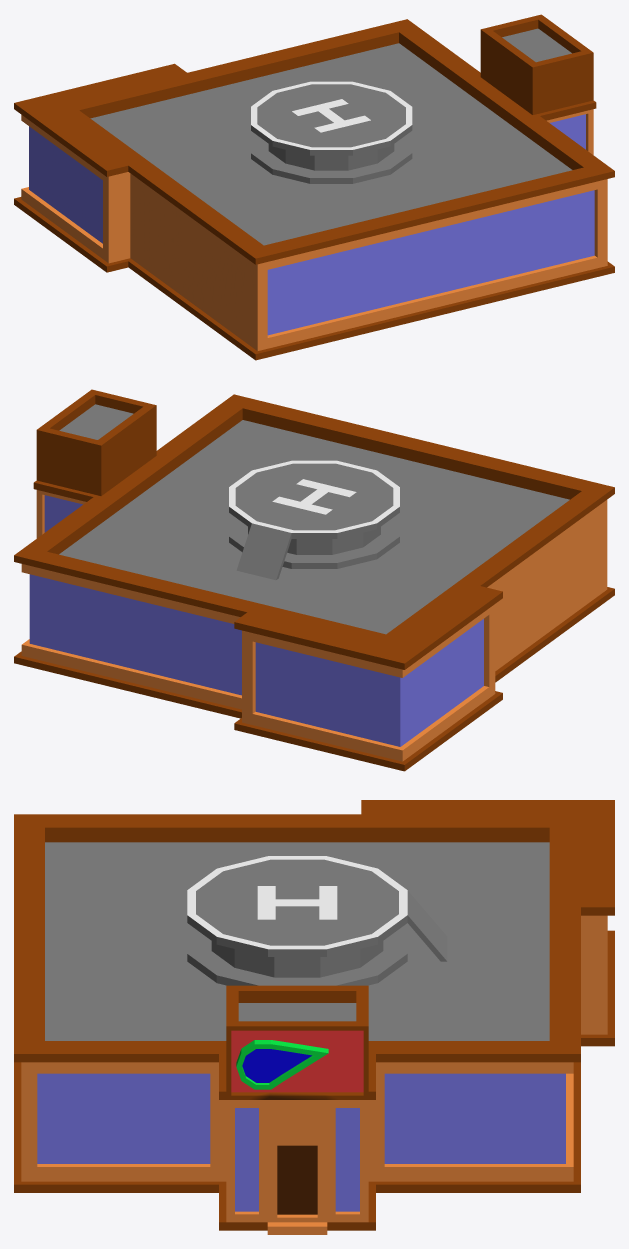
File: Wank.FBX
The picture shows the model from 3 angles, top to bottom: view 1: azimuth 30°, elevation 25°; view 2: azimuth 150°, elevation 25°; view 3: azimuth 270°, elevation 25°; orthographic projection. The views are drawn at different scales.
Parts seen in each view (by area): view 1: Bank; view 2: Bank; view 3: Bank.
Part boxes in pixels (x1,y1,x2,y2): Bank: (14,14,614,360); Bank: (14,389,614,771); Bank: (14,800,614,1234).
Bounding box in the file's own units: 898 × 289 × 771.
1 material, 1 textured.
